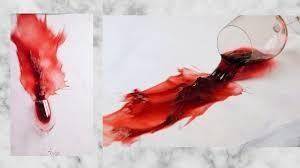wine: (105, 83, 198, 148), (162, 58, 266, 106), (12, 18, 68, 99)
